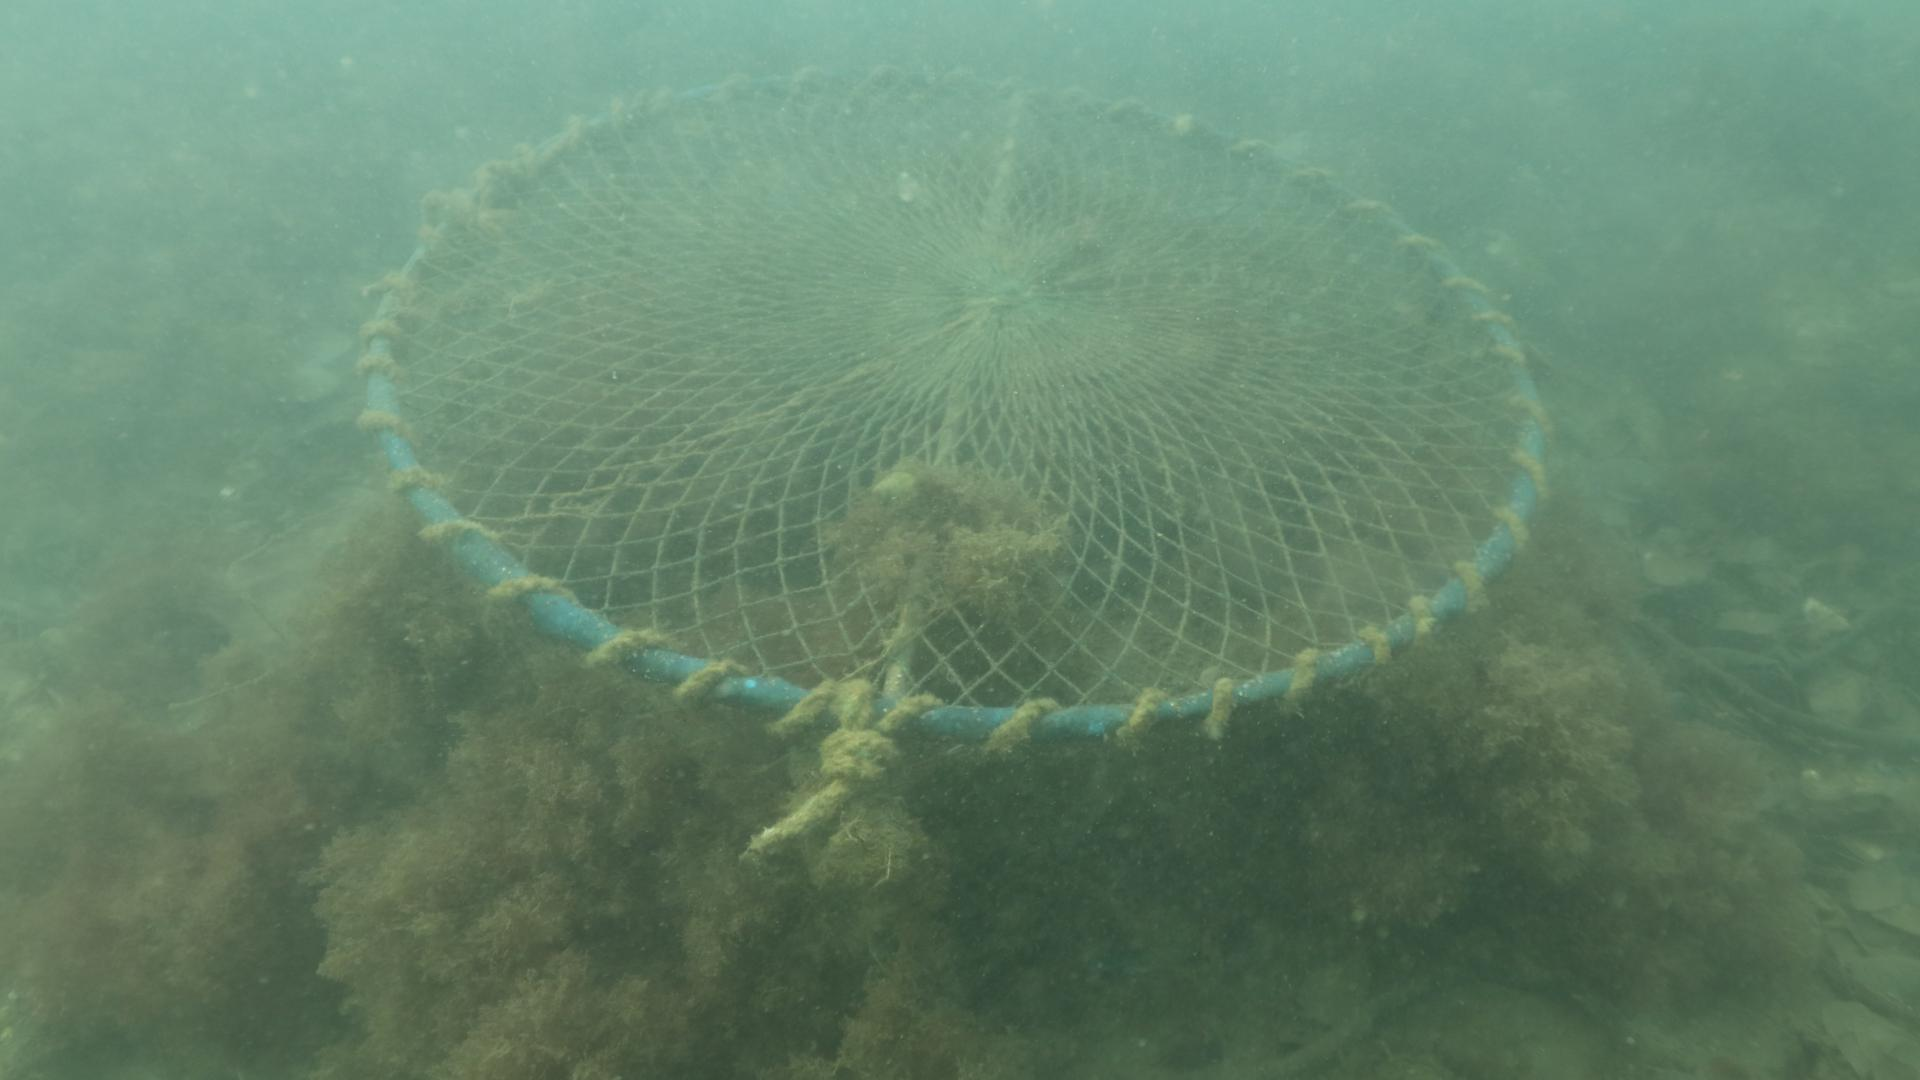circular fish trap: (359, 59, 1561, 881)
